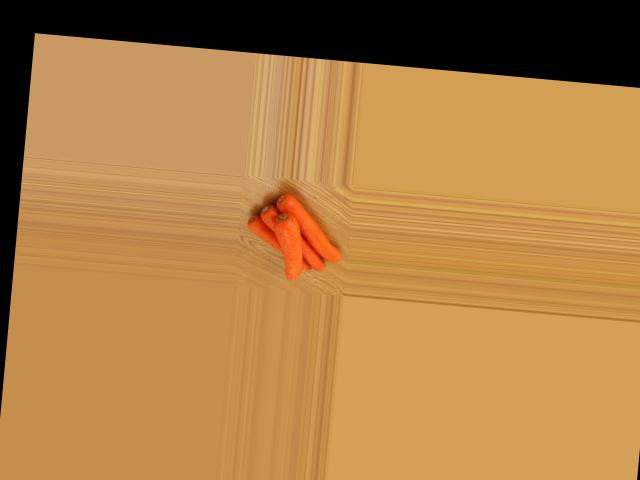carrot: (237, 210, 299, 265)
